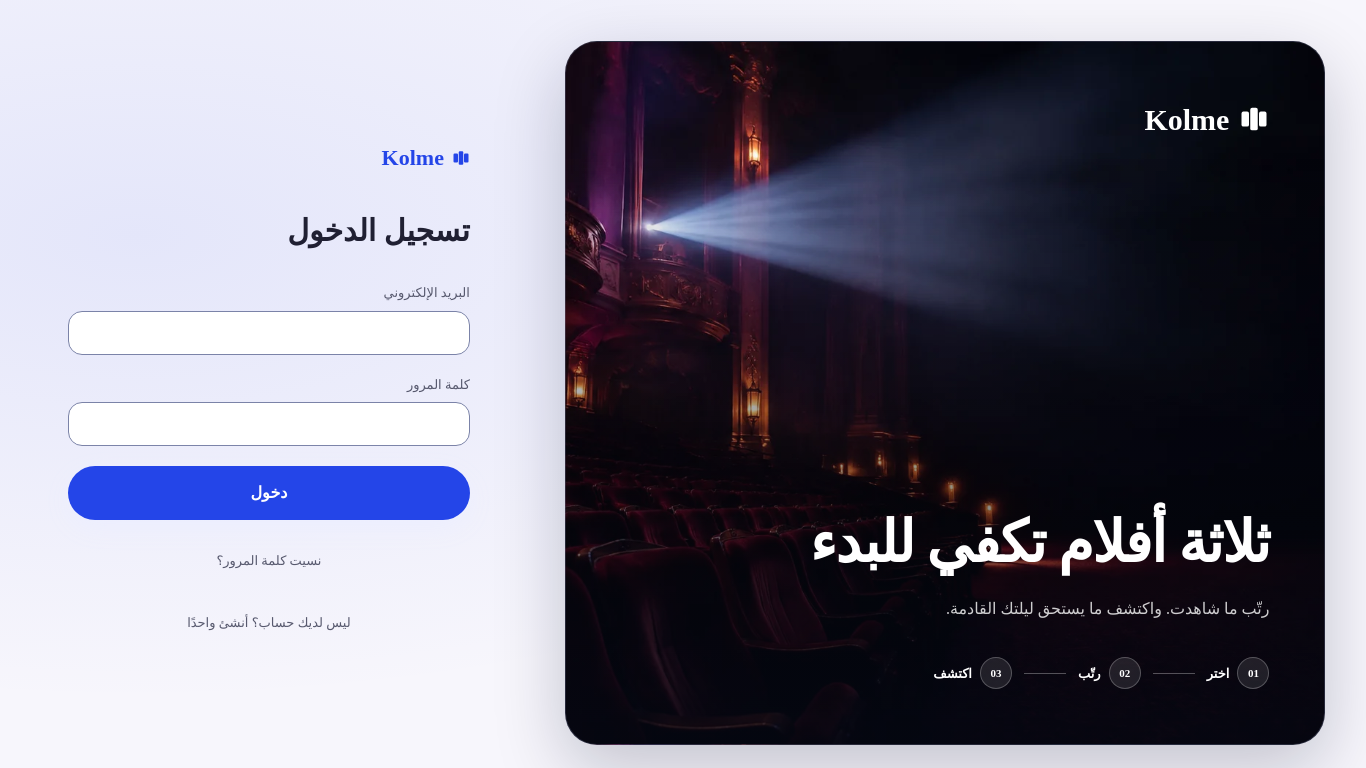
it: AuthScreen password reset › switches to an email-only reset form from the login screen
The width and height of the screenshot is (1366, 768).
Expected: the password field labelled "كلمة المرور" is shown, [68, 402, 470, 446]
Click the button "نسيت كلمة المرور؟".
click(269, 560)  # box [68, 538, 470, 582]
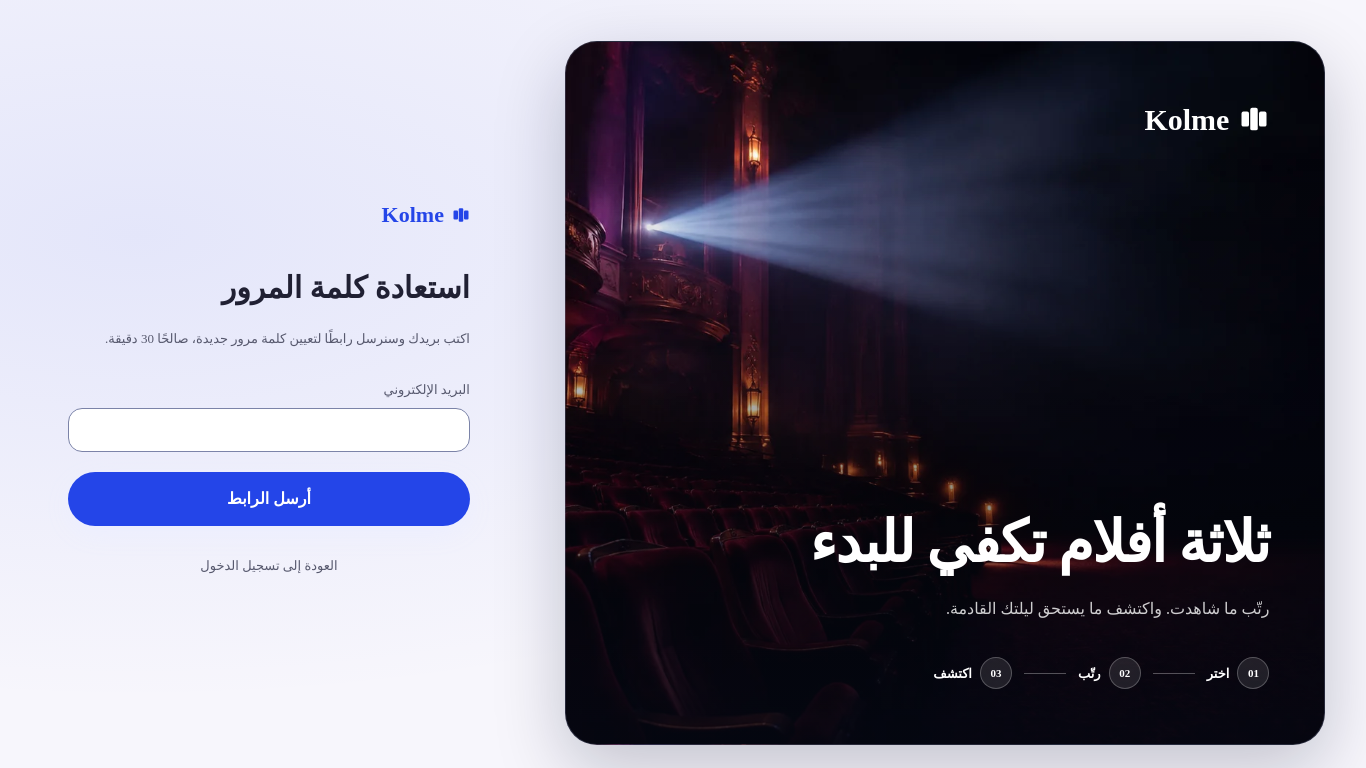
Expected: the field labelled "البريد الإلكتروني" is shown, [68, 408, 470, 452]
Expected: the heading "استعادة كلمة المرور" is shown, [222, 271, 470, 304]
